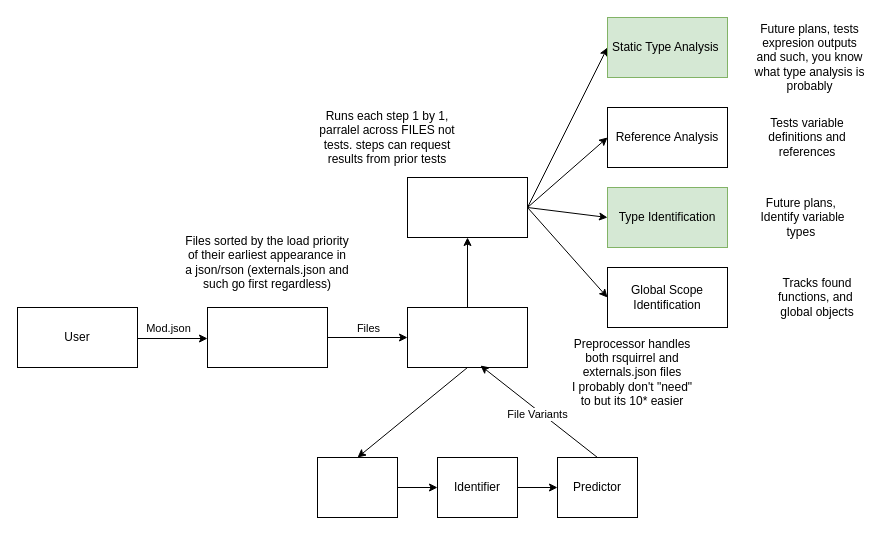
This 895x535 diagram has some shape labels left out. Here are the shapes that lost their labels. From the top down, the centre of each, then its label:
At (467,207): "Analysis Runner".
At (267,337): "Mod loader".
At (467,337): "Preprocessor".
At (357,487): "Parser".
